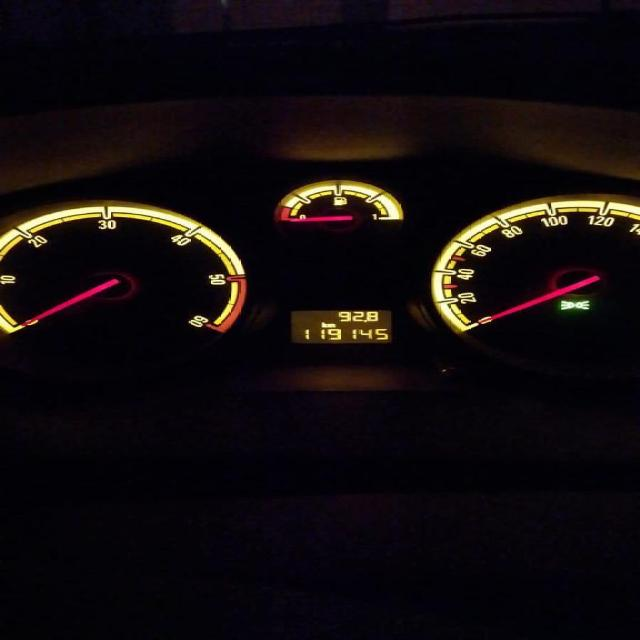odometer: (289, 308, 392, 344)
